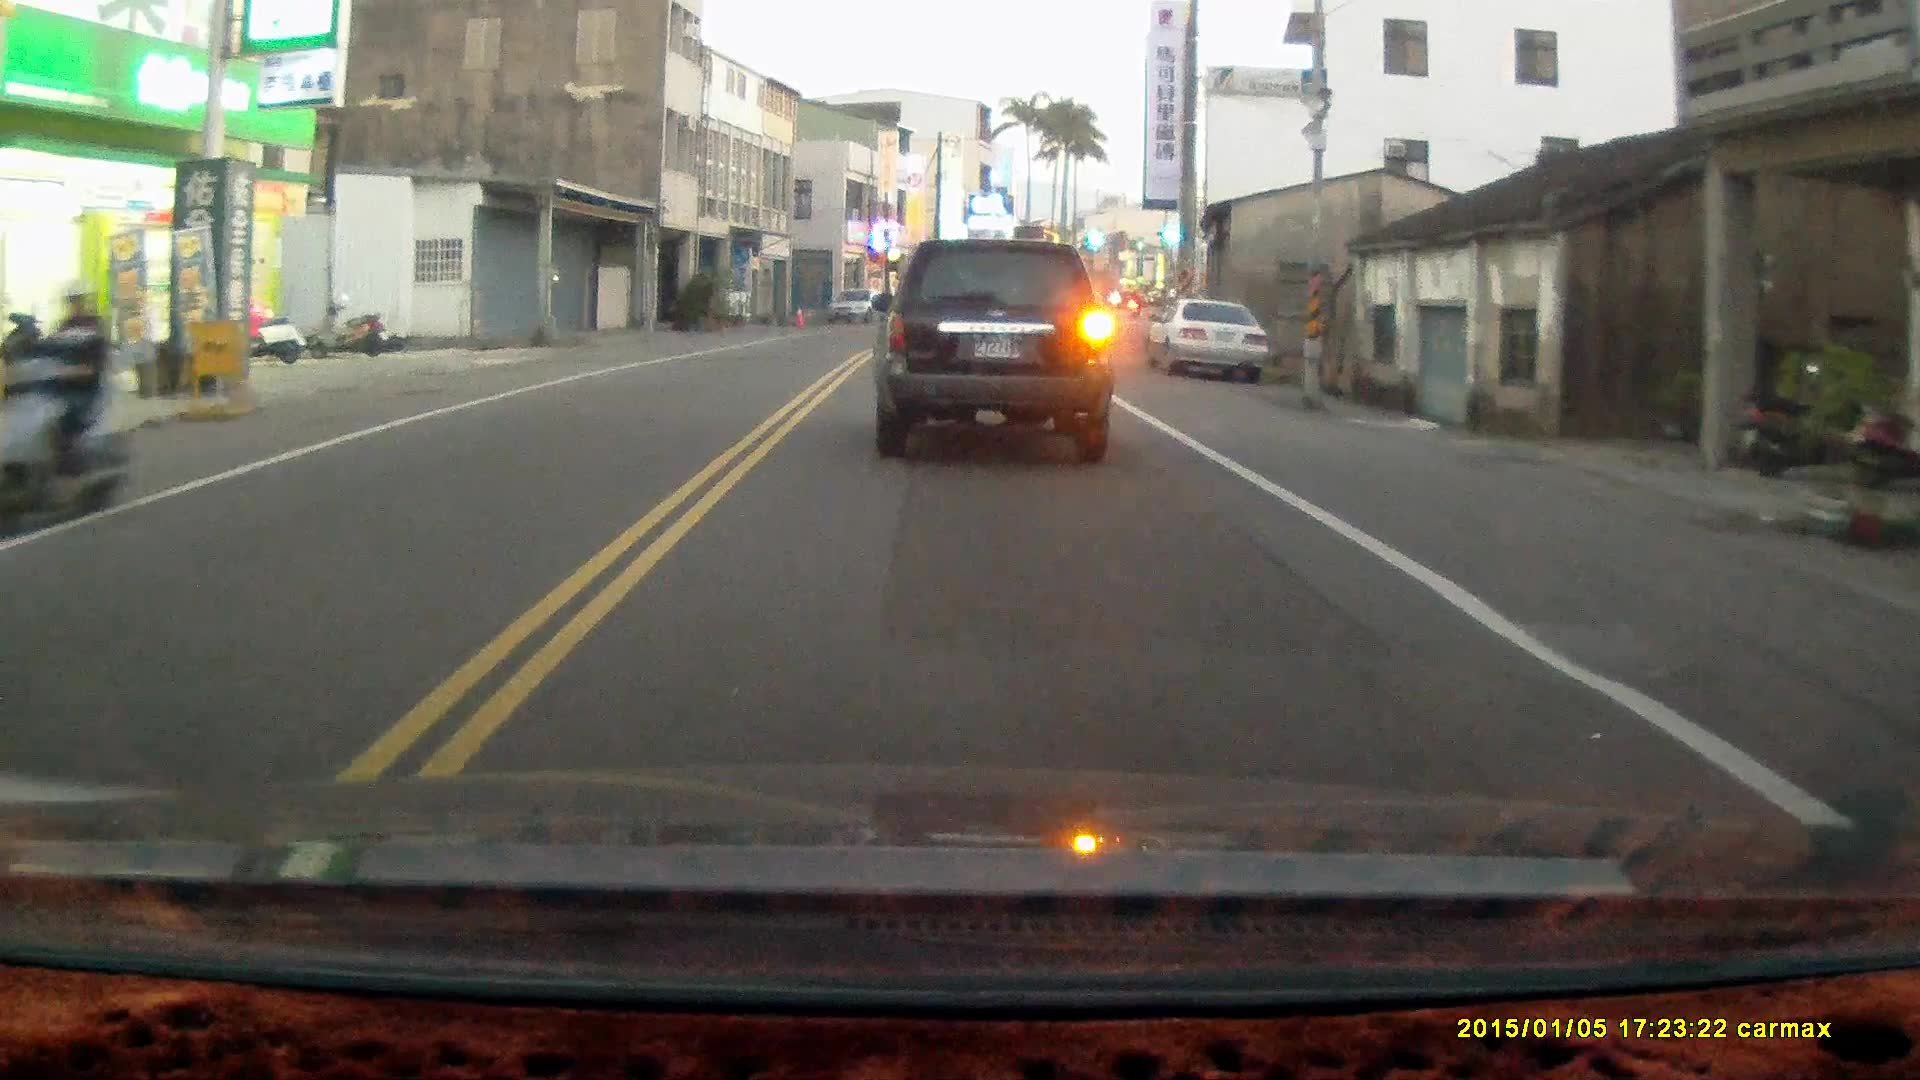rider: (0, 276, 134, 541)
vehicle: (874, 234, 1120, 464), (1149, 302, 1266, 385), (828, 292, 887, 333)
